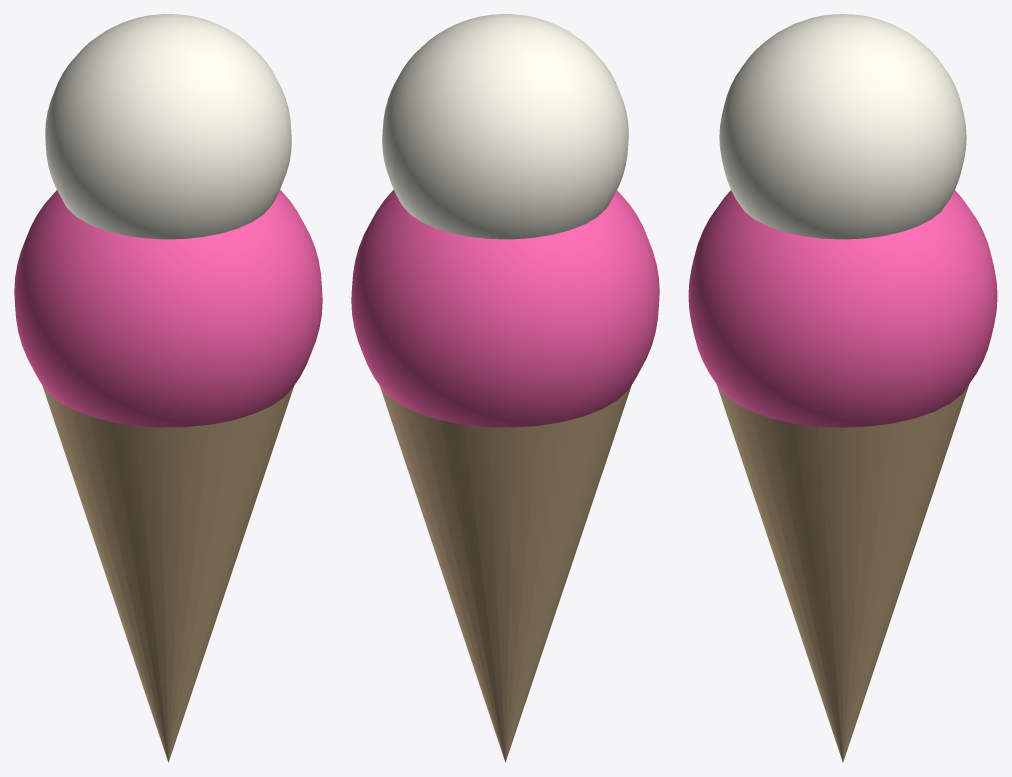
File: ice_cream.glb
The picture shows the model from 3 angles, left to right: view 1: azimuth 30°, elevation 25°; view 2: azimuth 150°, elevation 25°; view 3: azimuth 270°, elevation 25°; orthographic projection.
Bounding box in the file's own units: 3 × 7.9 × 3.
